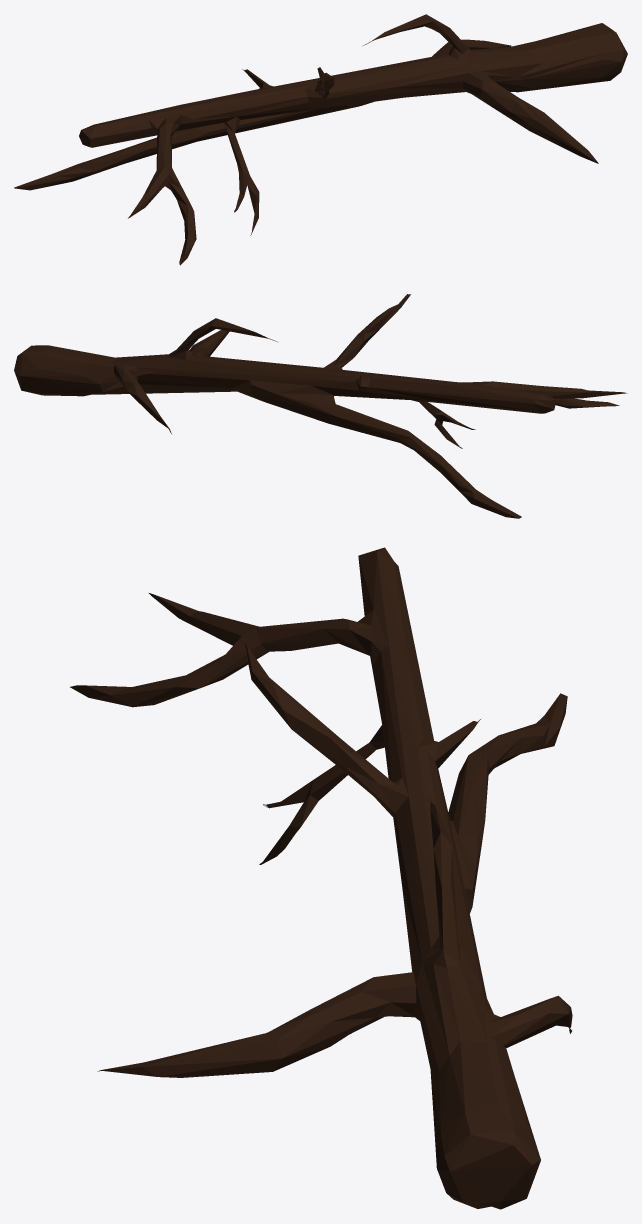
The model's file is SM_tree_dead_01.fbx.
3 renders of one model, top to bottom at view 1: azimuth 30°, elevation 25°; view 2: azimuth 150°, elevation 25°; view 3: azimuth 270°, elevation 25°, orthographic. The views are drawn at different scales.
Parts seen in each view (by area): view 1: Object011; view 2: Object011; view 3: Object011.
Boxes of the visible parts, left/top/right/bottom form: Object011: left=14, top=14, right=627, bottom=265; Object011: left=14, top=294, right=627, bottom=518; Object011: left=70, top=547, right=572, bottom=1209.
Bounding box in the file's own units: 395 × 100 × 165.
